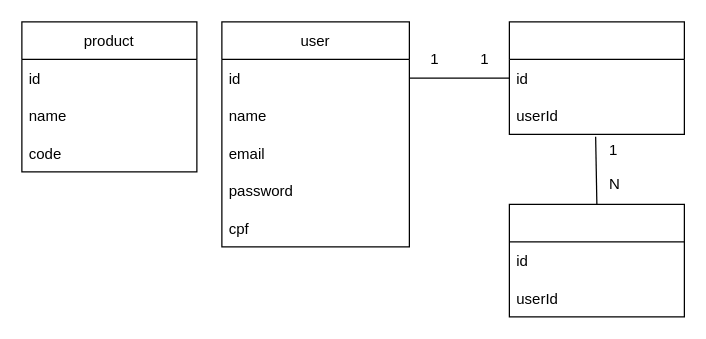
This 706x339 diagram has some shape labels left out. Each missing label, with the box of its shape:
cart: (508, 21, 684, 134)
cartProduct: (508, 203, 684, 317)
